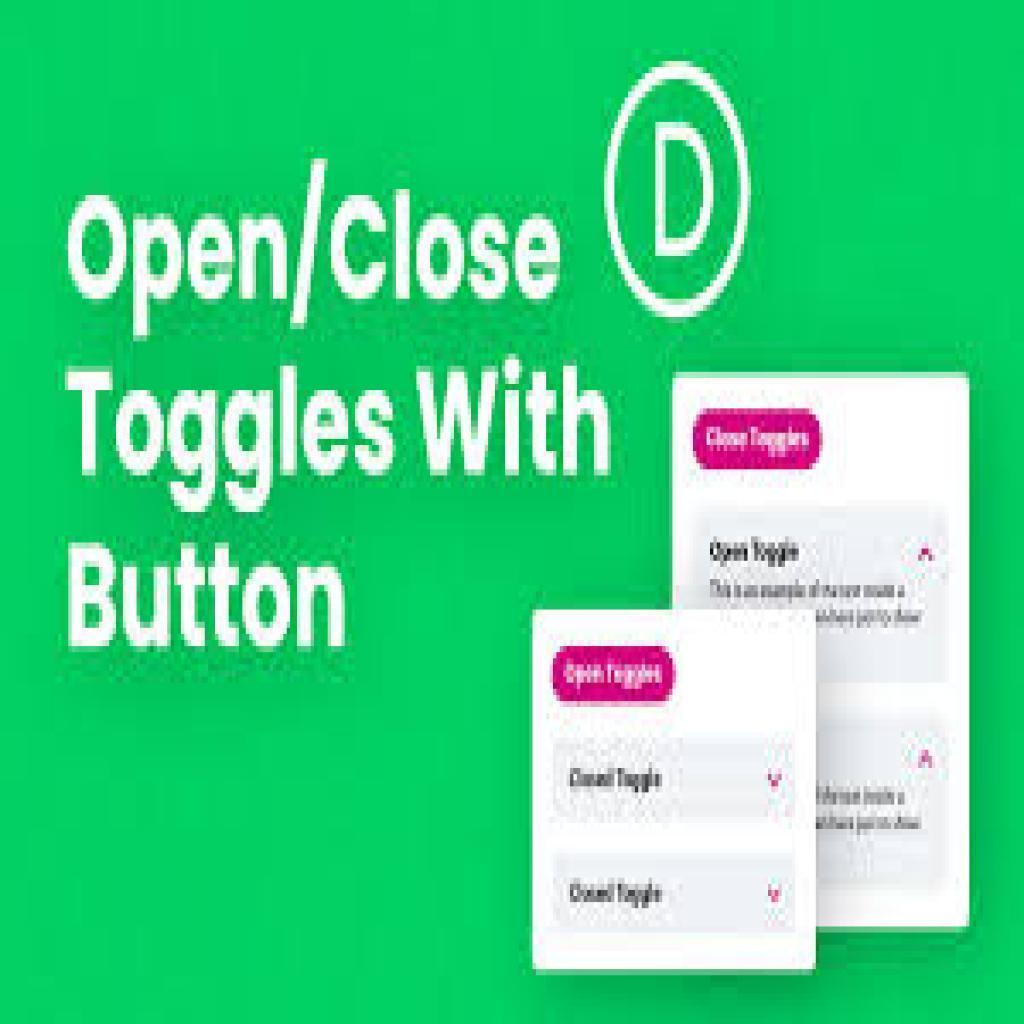dropdown: (550, 734, 803, 812), (554, 852, 794, 933)
